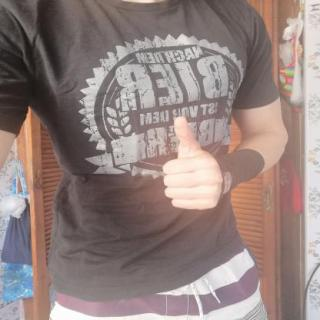ALIF: (147, 109, 236, 216)
